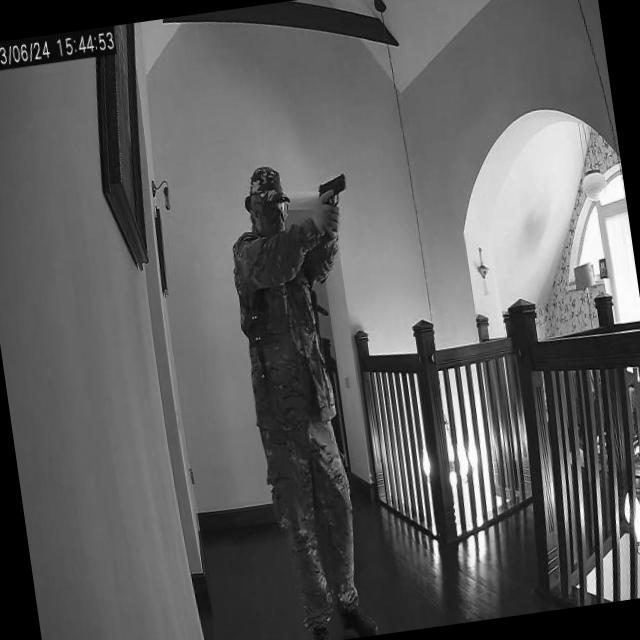gun: (314, 172, 352, 222)
person with a gun: (217, 155, 374, 640)
